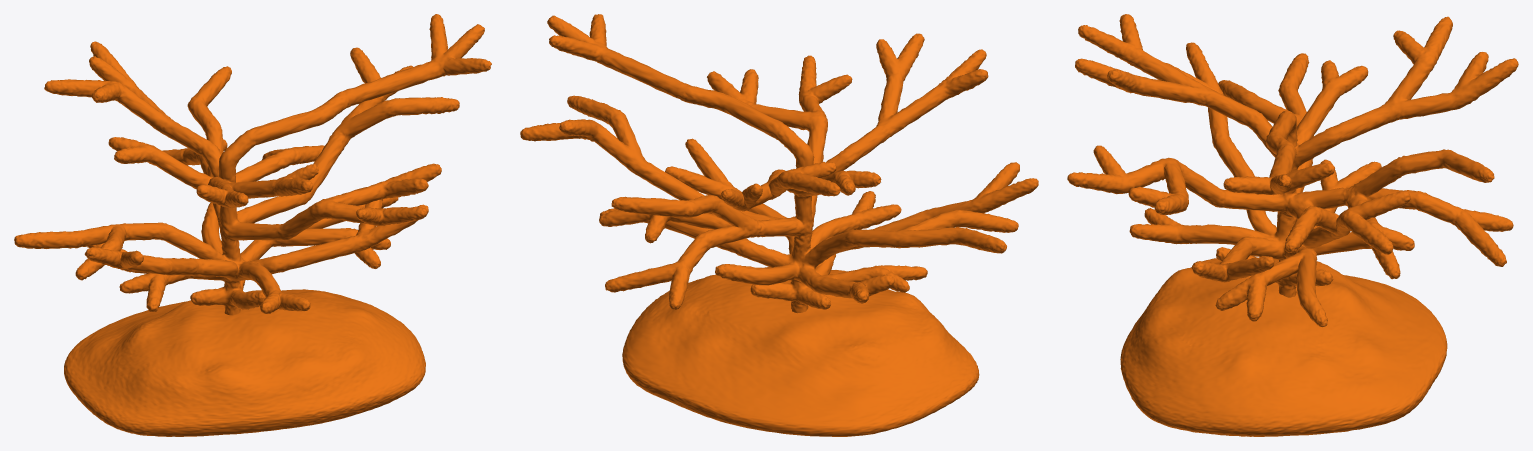
Rendered from coral4.glb.
The picture shows the model from 3 angles, left to right: view 1: azimuth 30°, elevation 25°; view 2: azimuth 150°, elevation 25°; view 3: azimuth 270°, elevation 25°; orthographic projection. The views are drawn at different scales.
Visible parts, largest first — view 1: 20942_Staghorn_Coral_v1_NEW; view 2: 20942_Staghorn_Coral_v1_NEW; view 3: 20942_Staghorn_Coral_v1_NEW.
Part boxes in pixels (<box>): 20942_Staghorn_Coral_v1_NEW: <box>14,14,491,436</box>; 20942_Staghorn_Coral_v1_NEW: <box>520,14,1038,436</box>; 20942_Staghorn_Coral_v1_NEW: <box>1067,14,1518,436</box>.
Size of the model in its own units: 9.98 by 6.05 by 7.85.
